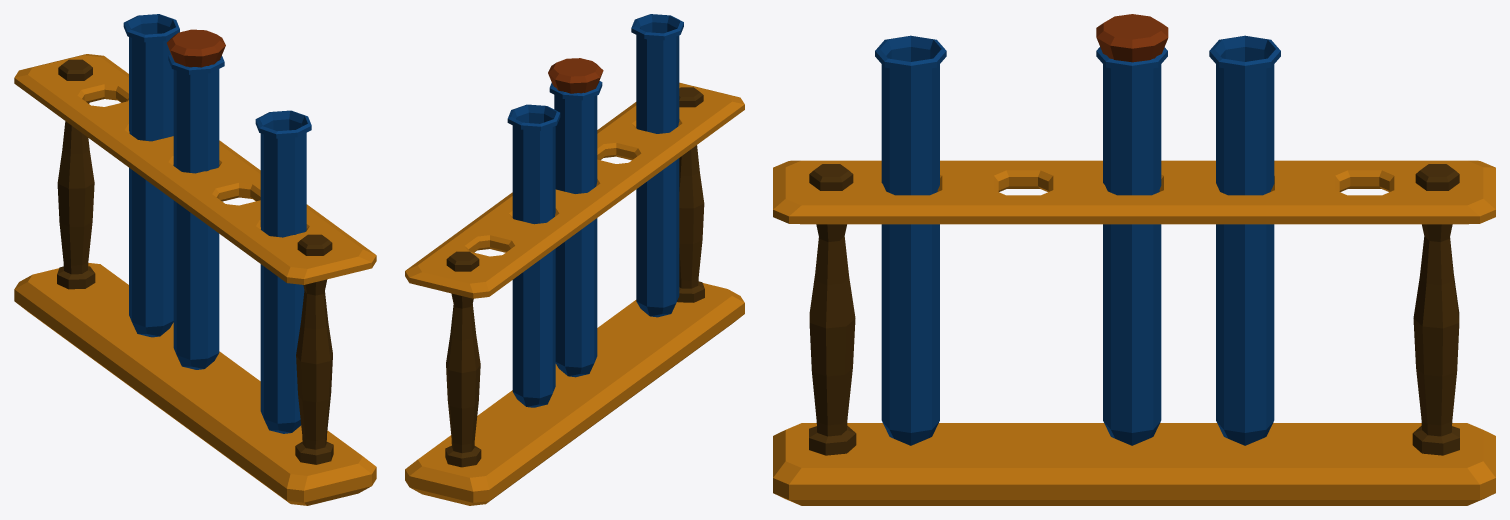
Rendered from MESH_PotionStand.fbx.
The picture shows the model from 3 angles, left to right: view 1: azimuth 30°, elevation 25°; view 2: azimuth 150°, elevation 25°; view 3: azimuth 270°, elevation 25°; orthographic projection. The views are drawn at different scales.
Visible parts, largest first — view 1: MESH_PotionStand; view 2: MESH_PotionStand; view 3: MESH_PotionStand.
Boxes of the visible parts, x1,y1,x2,y2 form: MESH_PotionStand: (14, 14, 376, 505); MESH_PotionStand: (405, 14, 744, 505); MESH_PotionStand: (773, 14, 1495, 505).
Bounding box in the file's own units: 0.0861 × 0.3302 × 0.4737.
